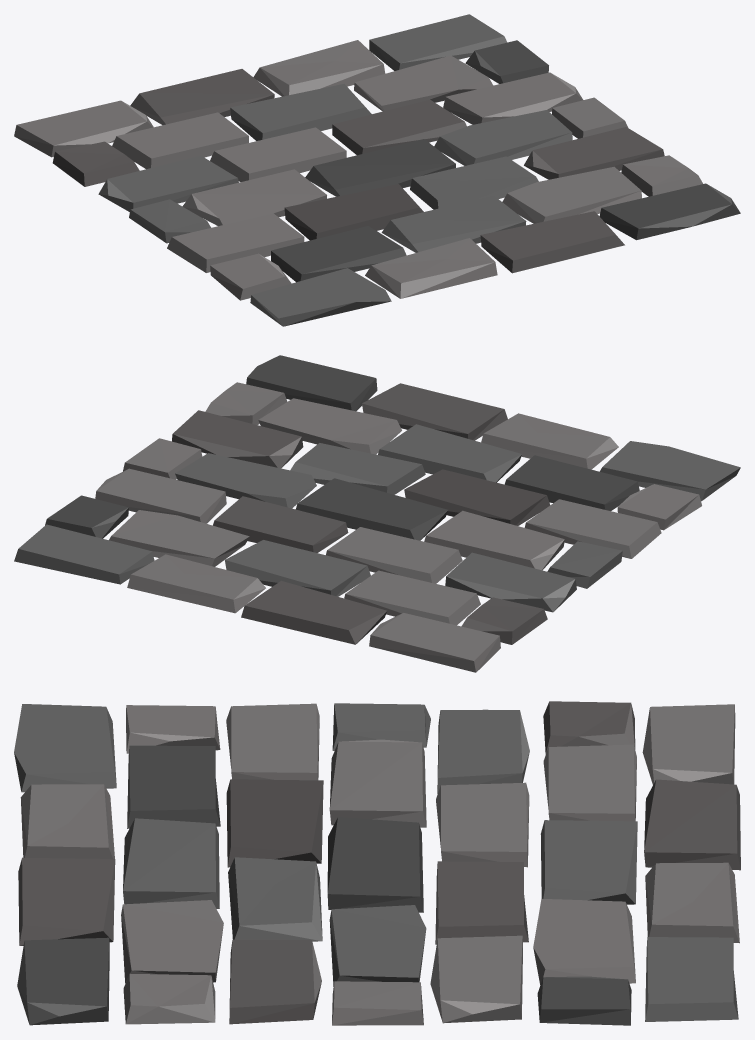
File: gridroad.glb
The picture shows the model from 3 angles, top to bottom: view 1: azimuth 30°, elevation 25°; view 2: azimuth 150°, elevation 25°; view 3: azimuth 270°, elevation 25°; orthographic projection. The views are drawn at different scales.
Parts seen in each view (by area): view 1: StoneSlabSmall_01; view 2: StoneSlabSmall_01; view 3: StoneSlabSmall_01.
Part boxes in pixels (x1,y1,x2,y2): StoneSlabSmall_01: (14,14,740,326); StoneSlabSmall_01: (14,355,740,672); StoneSlabSmall_01: (14,701,740,1025).
Size of the model in its own units: 0.9933 by 0.0272 by 0.9875.
1 material, 1 textured.
